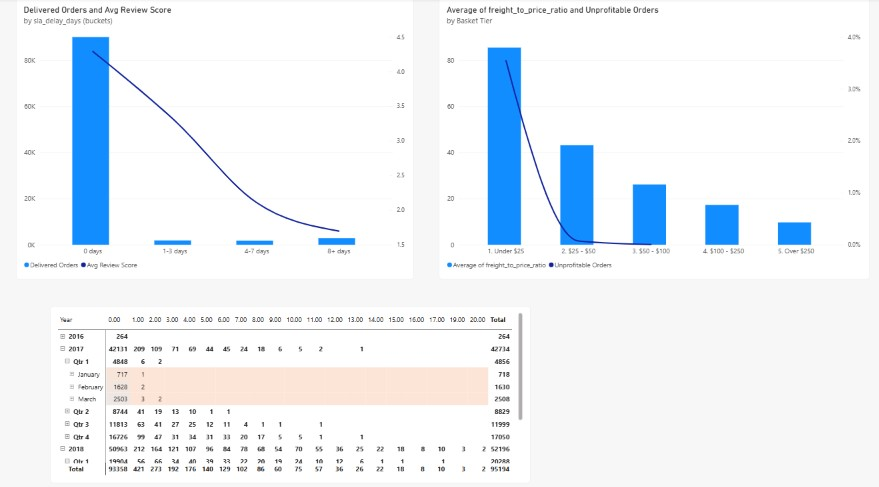

The page's visual inventory and layout, read from the dashboard file:
{"tool":"powerbi","page":{"name":"Root-Cause Leakage Diagnostics (The Statistical Proof)","canvas":[1920,1080],"ordinal":1},"visuals":[{"type":"lineClusteredColumnComboChart","fields":{"Category":["dw fact_orders.sla_delay_days (groups)"],"Y":["_Measures.Delivered Orders"],"Y2":["_Measures.Avg Review Score"]},"box":[46.7,0,857.8,607.6],"z":0},{"type":"lineClusteredColumnComboChart","fields":{"Category":["analytics vw_order_diagnostics.Basket Tier"],"Y":["Avg(analytics vw_order_diagnostics.freight_to_price_ratio)"],"Y2":["_Measures.Unprofitable Orders"]},"box":[959.5,0,929.3,607.6],"z":1},{"type":"pivotTable","fields":{"Columns":["analytics vw_cohort_margin_analysis.period_month"],"Rows":["analytics vw_cohort_margin_analysis.order_month.Variation.Date Hierarchy.Year","analytics vw_cohort_margin_analysis.order_month.Variation.Date Hierarchy.Quarter","analytics vw_cohort_margin_analysis.order_month.Variation.Date Hierarchy.Month","analytics vw_cohort_margin_analysis.order_month.Variation.Date Hierarchy.Day"],"Values":["Sum(analytics vw_cohort_margin_analysis.active_customers)"]},"box":[121,665.4,1036.5,382.2],"z":2}]}

Visuals, with their boxes in screenshot pixels (x1, y1, x2, y2), scaled from the page's 1920x1080 canvas onto the 879x487 screenshot:
lineClusteredColumnComboChart - dw fact_orders.sla_delay_days (groups) x _Measures.Delivered Orders: BBox(21, 0, 414, 274)
lineClusteredColumnComboChart - analytics vw_order_diagnostics.Basket Tier x Avg(analytics vw_order_diagnostics.freight_to_price_ratio): BBox(439, 0, 865, 274)
pivotTable - analytics vw_cohort_margin_analysis.period_month x analytics vw_cohort_margin_analysis.order_month.Variation.Date Hierarchy.Year: BBox(55, 300, 530, 472)
